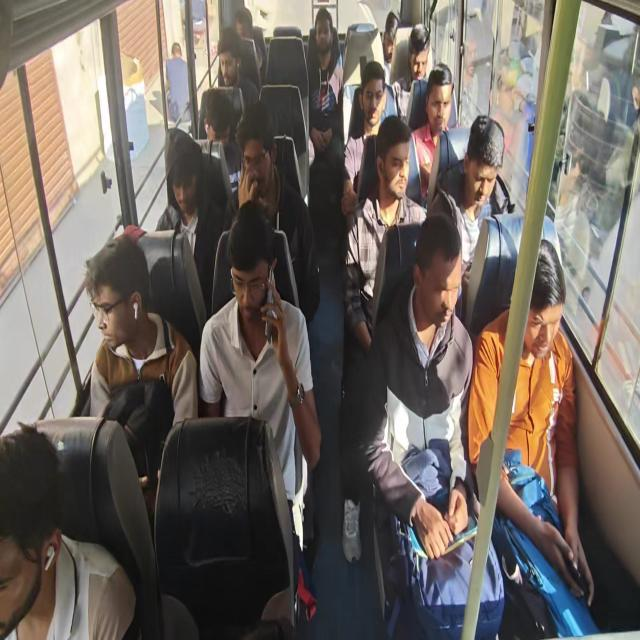person: (0, 396, 67, 598), (82, 240, 156, 353), (517, 248, 566, 358), (226, 223, 276, 330), (416, 233, 457, 332), (165, 119, 205, 213), (466, 124, 504, 202), (379, 127, 412, 197), (238, 125, 270, 197), (200, 98, 235, 145), (364, 70, 392, 127), (315, 7, 340, 66), (212, 39, 242, 86), (428, 76, 452, 130), (405, 32, 429, 84), (383, 11, 403, 60), (231, 6, 252, 39)
